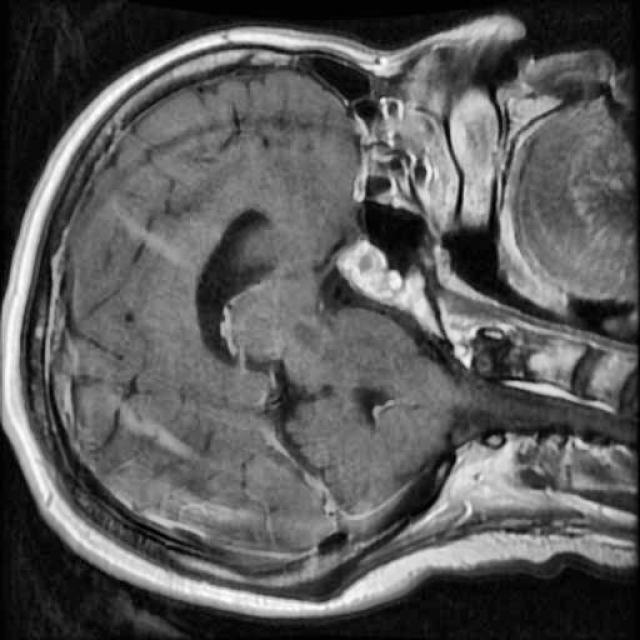Tumor: (310, 229, 461, 328)
